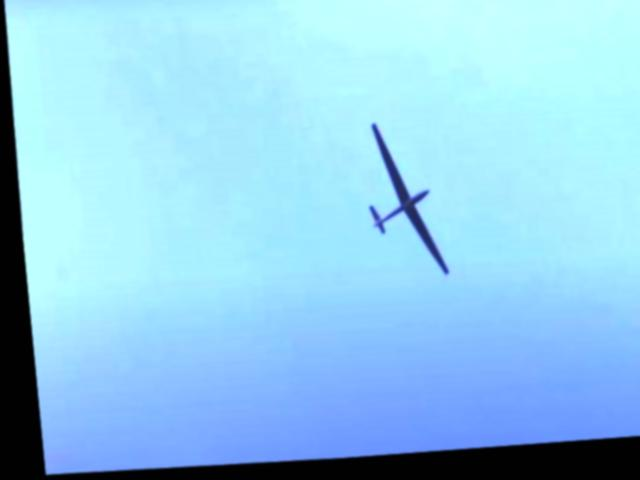iha: (353, 122, 446, 284)
